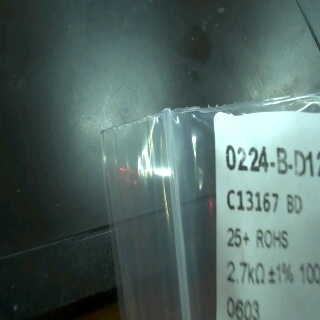2.7kR: (217, 259, 270, 290)
